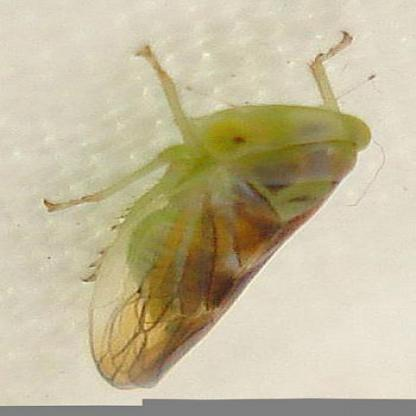green-leafhopper: (90, 95, 371, 389)
